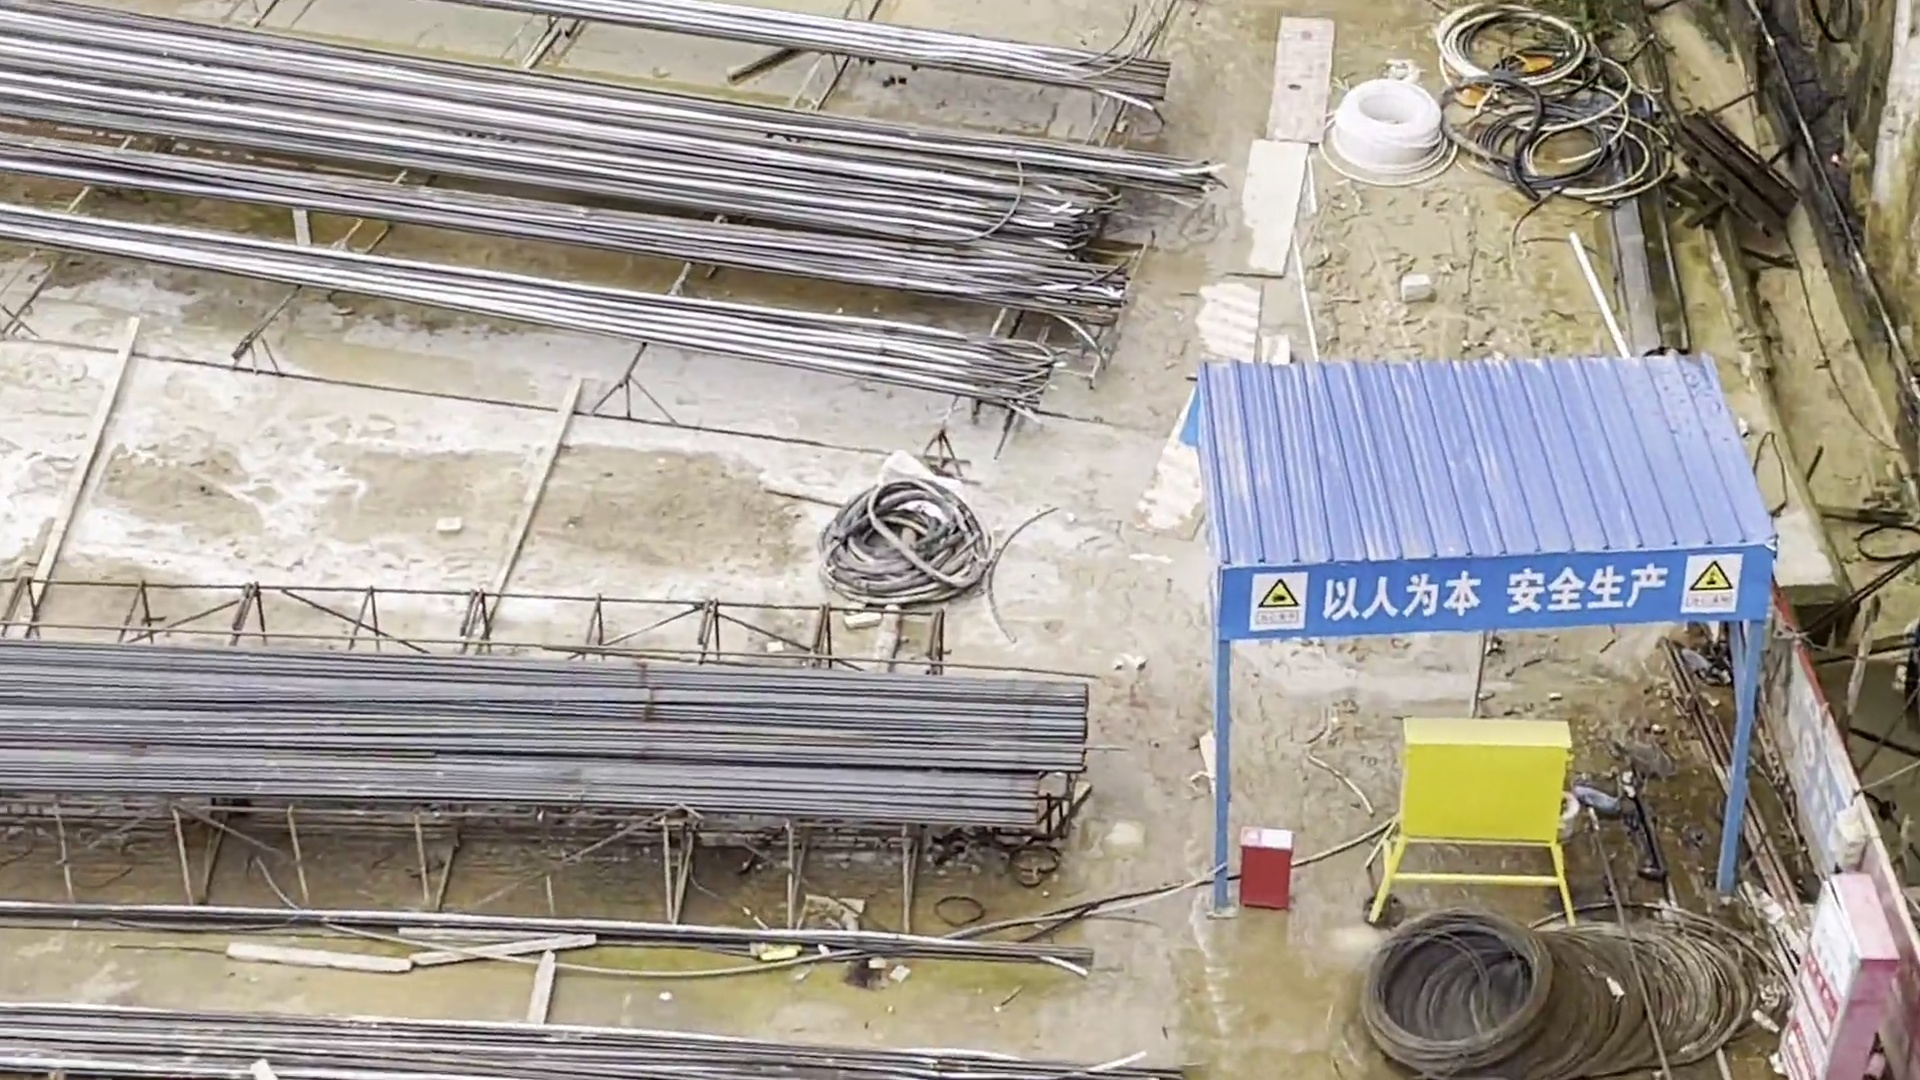ebox: (1378, 709, 1606, 928)
rebar: (145, 17, 1195, 415), (16, 629, 1095, 858), (55, 1005, 1141, 1080)
slogan: (1257, 560, 1737, 626)
